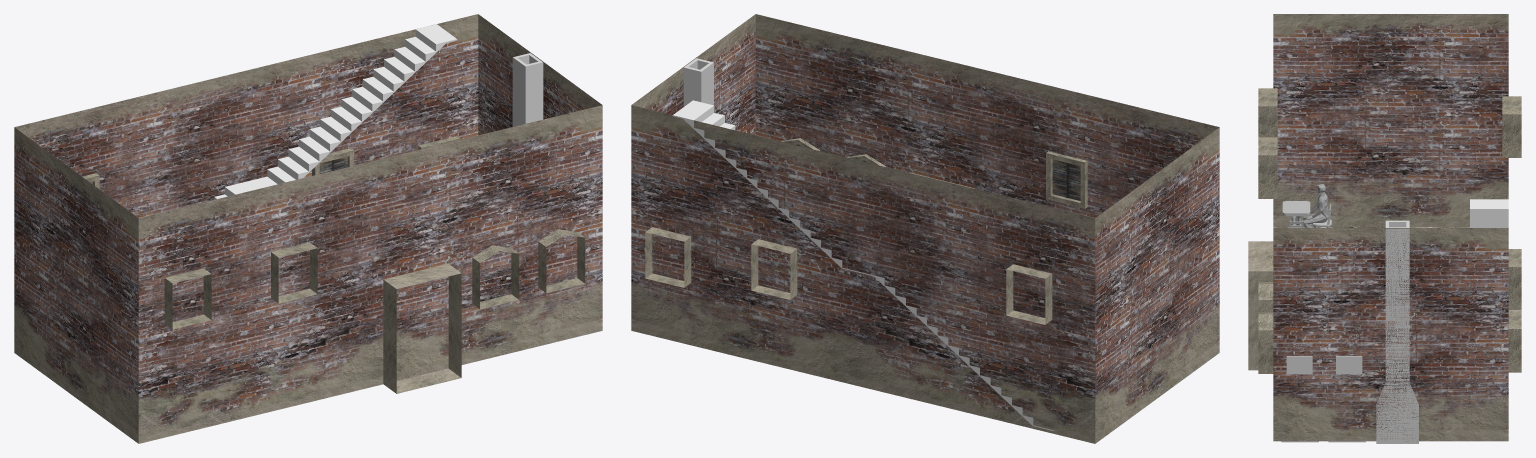
Rendered from pub_1.1stfloor.interior.fbx.
3 renders of one model, left to right at view 1: azimuth 30°, elevation 25°; view 2: azimuth 150°, elevation 25°; view 3: azimuth 270°, elevation 25°, orthographic. The views are drawn at different scales.
Visible parts, largest first — view 1: house_2.003, group_0.001, fireplace_1.005; view 2: house_2.003, group_0.001, fireplace_1.005; view 3: house_2.003, fireplace_1.005, group_0.001, Model.001, store_2.016, store_2.015, woodsquareta.005.
Part boxes in pixels (left/top/right/bottom): house_2.003: left=14, top=14, right=602, bottom=443; group_0.001: left=214, top=24, right=457, bottom=199; fireplace_1.005: left=512, top=53, right=543, bottom=126; house_2.003: left=631, top=14, right=1219, bottom=443; group_0.001: left=672, top=100, right=1054, bottom=431; fireplace_1.005: left=683, top=58, right=713, bottom=106; house_2.003: left=1248, top=14, right=1521, bottom=441; fireplace_1.005: left=1376, top=220, right=1418, bottom=443; group_0.001: left=1470, top=199, right=1508, bottom=227; Model.001: left=1303, top=184, right=1328, bottom=227; store_2.016: left=1286, top=356, right=1312, bottom=374; store_2.015: left=1336, top=356, right=1362, bottom=374; woodsquareta.005: left=1282, top=201, right=1310, bottom=225.
Bounding box in the file's own units: 13.14 × 6.2 × 7.09.
